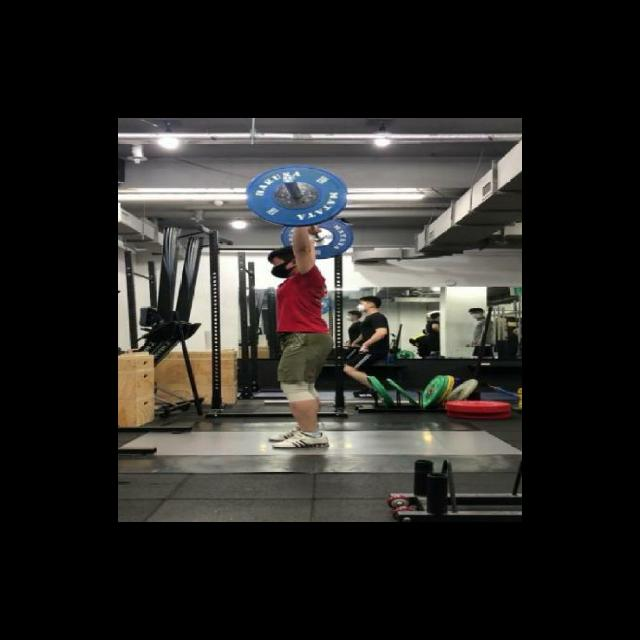barbell: (237, 157, 359, 232)
